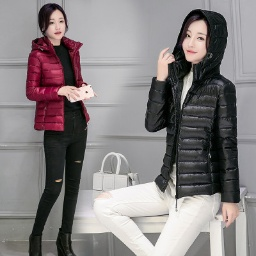face: (164, 11, 232, 79), (32, 1, 83, 43)
